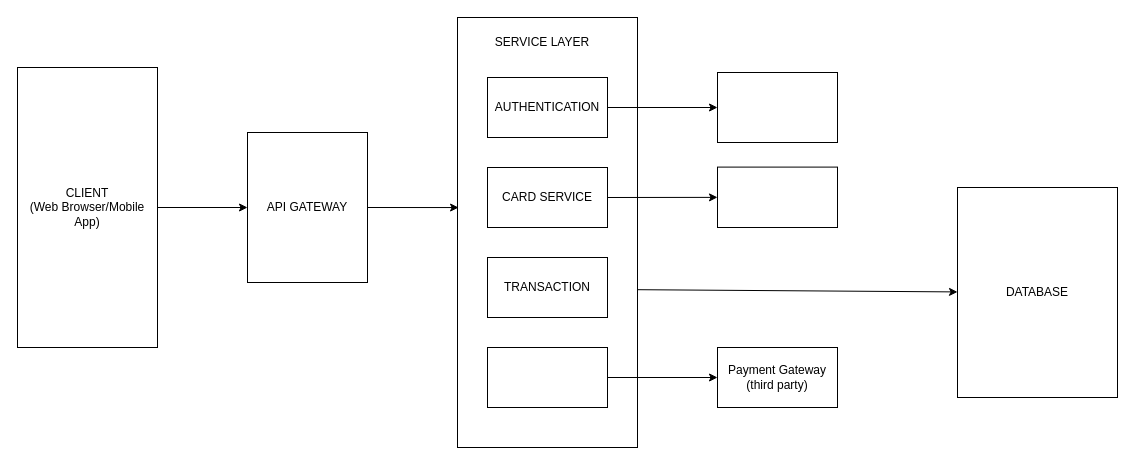
This 1135x465 diagram has some shape labels left out. The box of each missing label's shape, as (x1, y1, x2, y2) in pixels:
Card Provider API (third party): (716, 166, 838, 228)
Redis Cache: (716, 72, 838, 142)
WALLET SERVICE: (486, 346, 608, 408)
